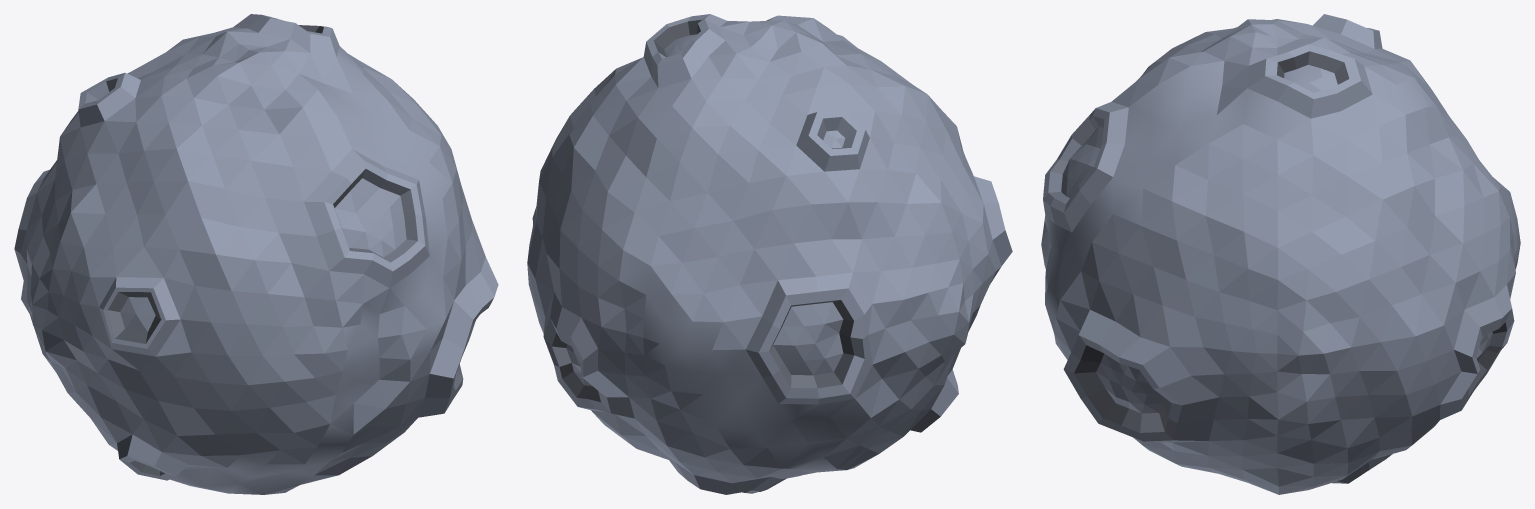
File: Low Poly Moon.fbx
The picture shows the model from 3 angles, left to right: view 1: azimuth 30°, elevation 25°; view 2: azimuth 150°, elevation 25°; view 3: azimuth 270°, elevation 25°; orthographic projection. The views are drawn at different scales.
Parts seen in each view (by area): view 1: Moon; view 2: Moon; view 3: Moon.
Boxes of the visible parts, left/top/right/bottom form: Moon: left=14, top=14, right=498, bottom=494; Moon: left=527, top=14, right=1012, bottom=494; Moon: left=1041, top=14, right=1520, bottom=494.
Size of the model in its own units: 19.82 by 20.34 by 19.52.
